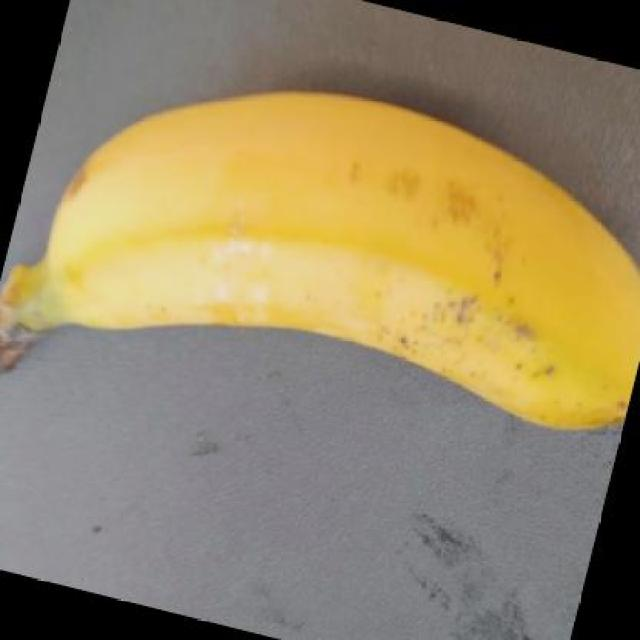Ripe: (0, 76, 640, 466)
